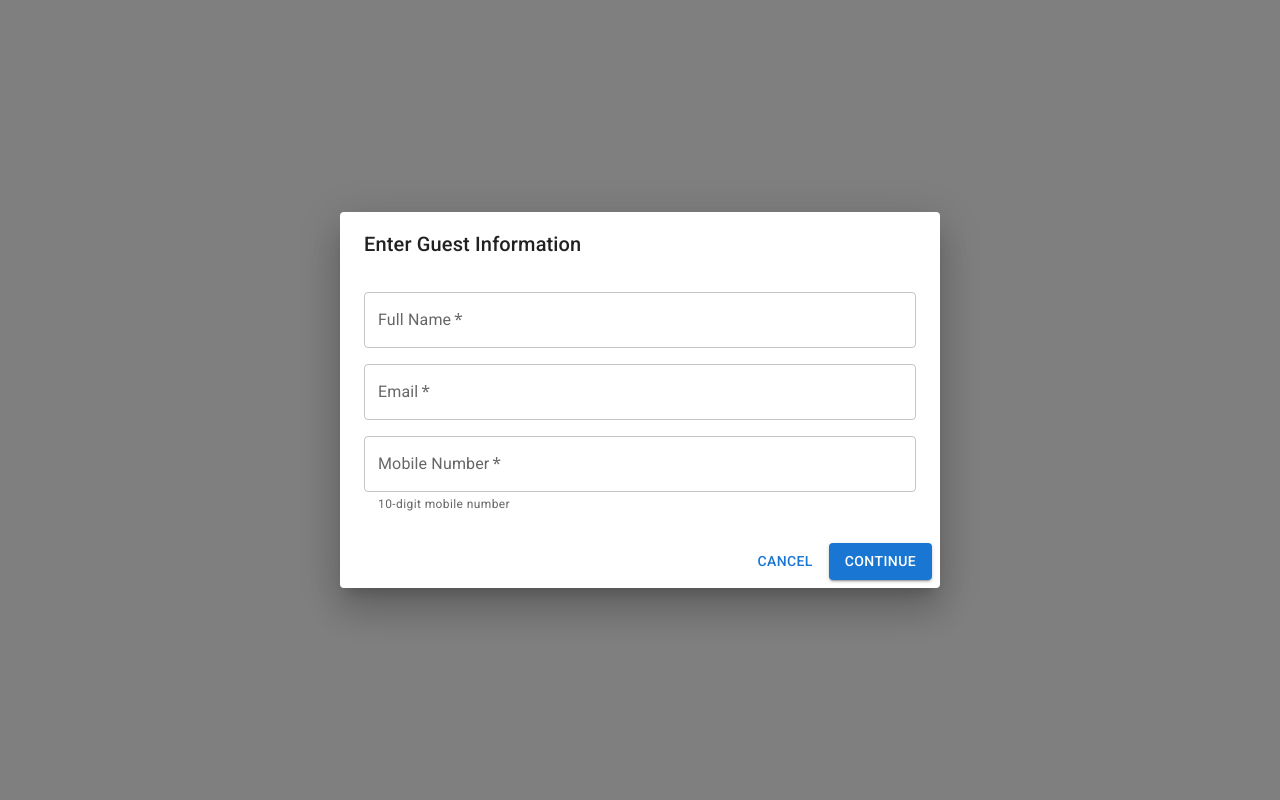
Test: GuestInfoDialog › validates phone number format
Type "John Doe" into the field labelled "Full Name *" at (640,320), box [364,292,916,348]
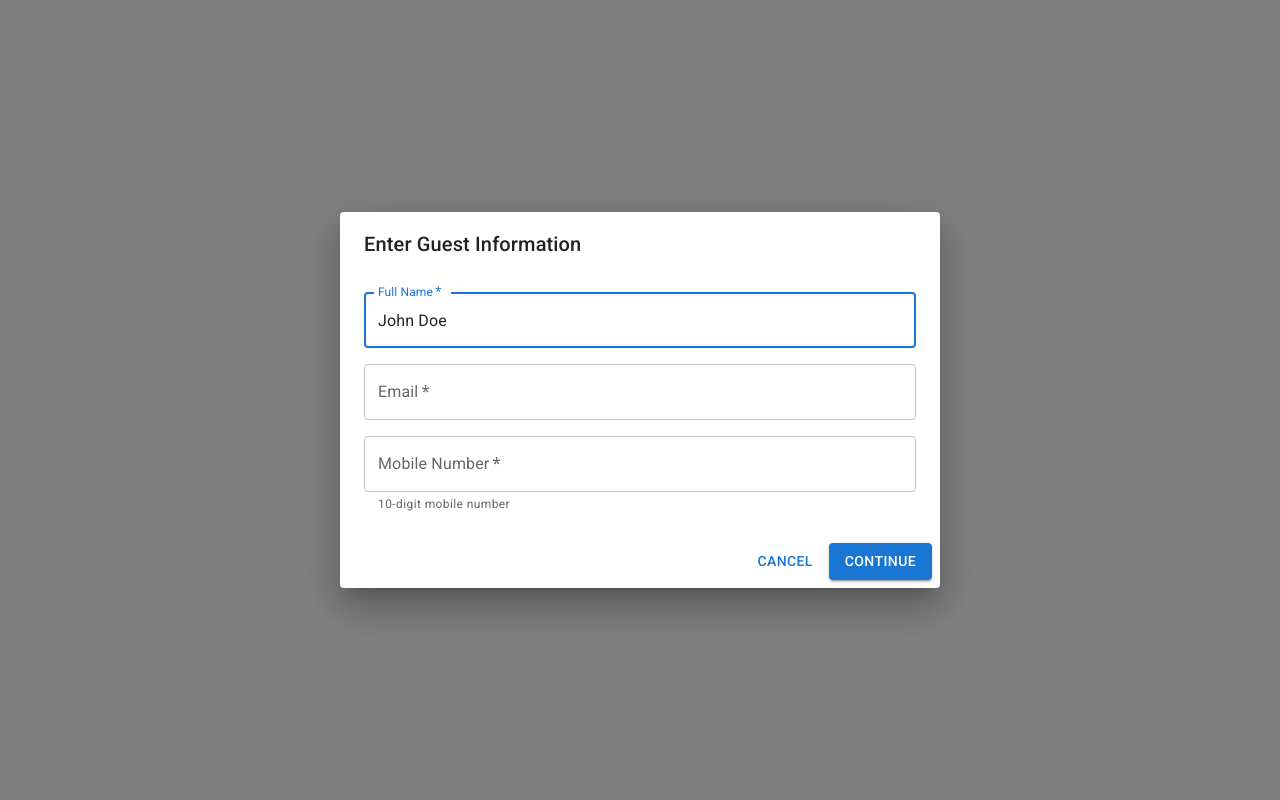
Type "john@example.com" into the field labelled "Email *" at (640,392), box [364,364,916,420]
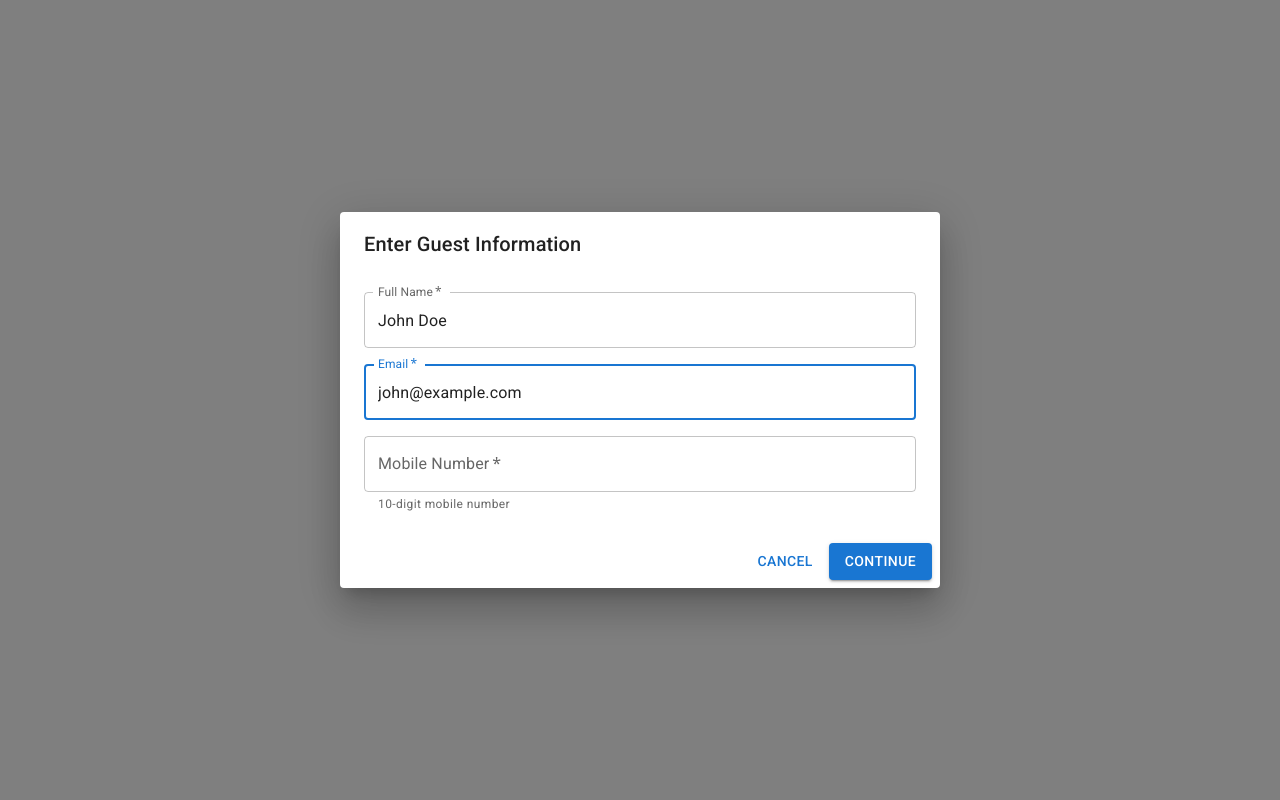
Type "123" into the field labelled "Mobile Number *" at (640,464), box [364,436,916,492]
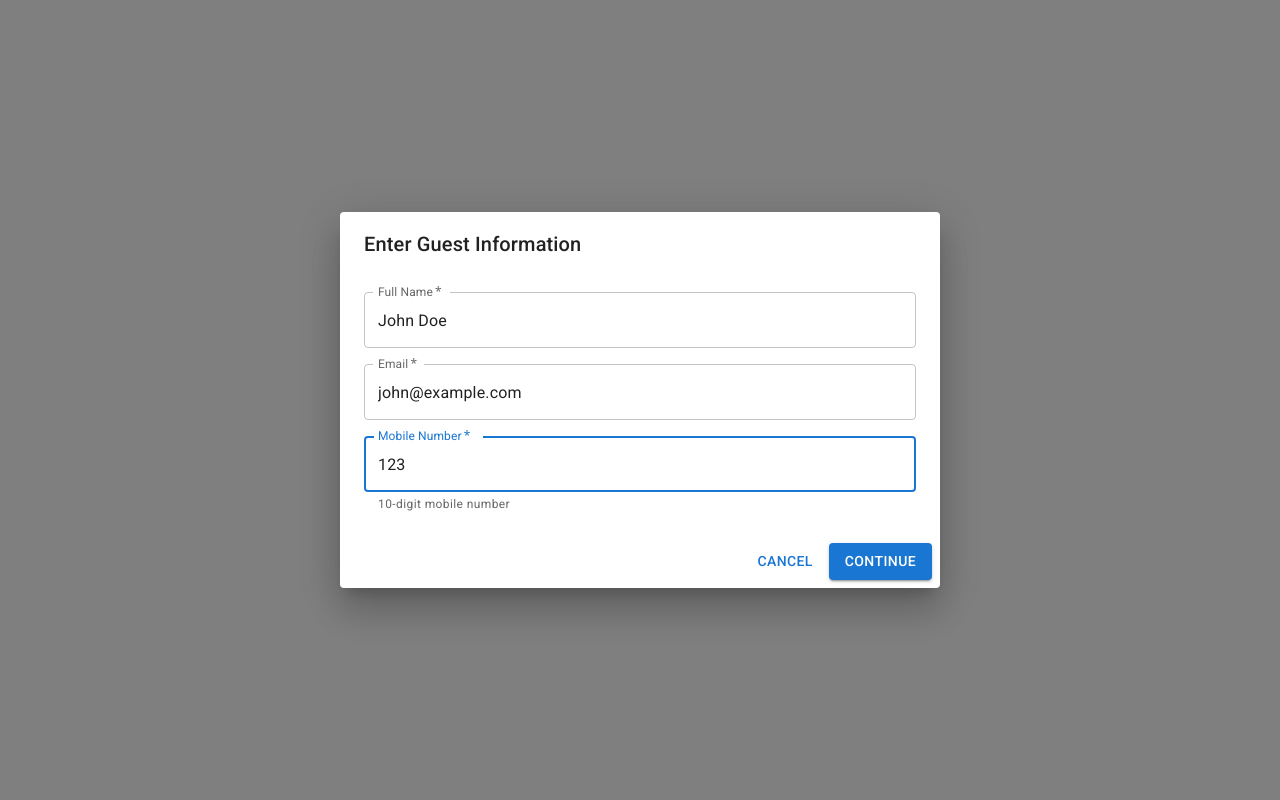
Click the button "Continue" at (880,561), box [829,543,932,580]
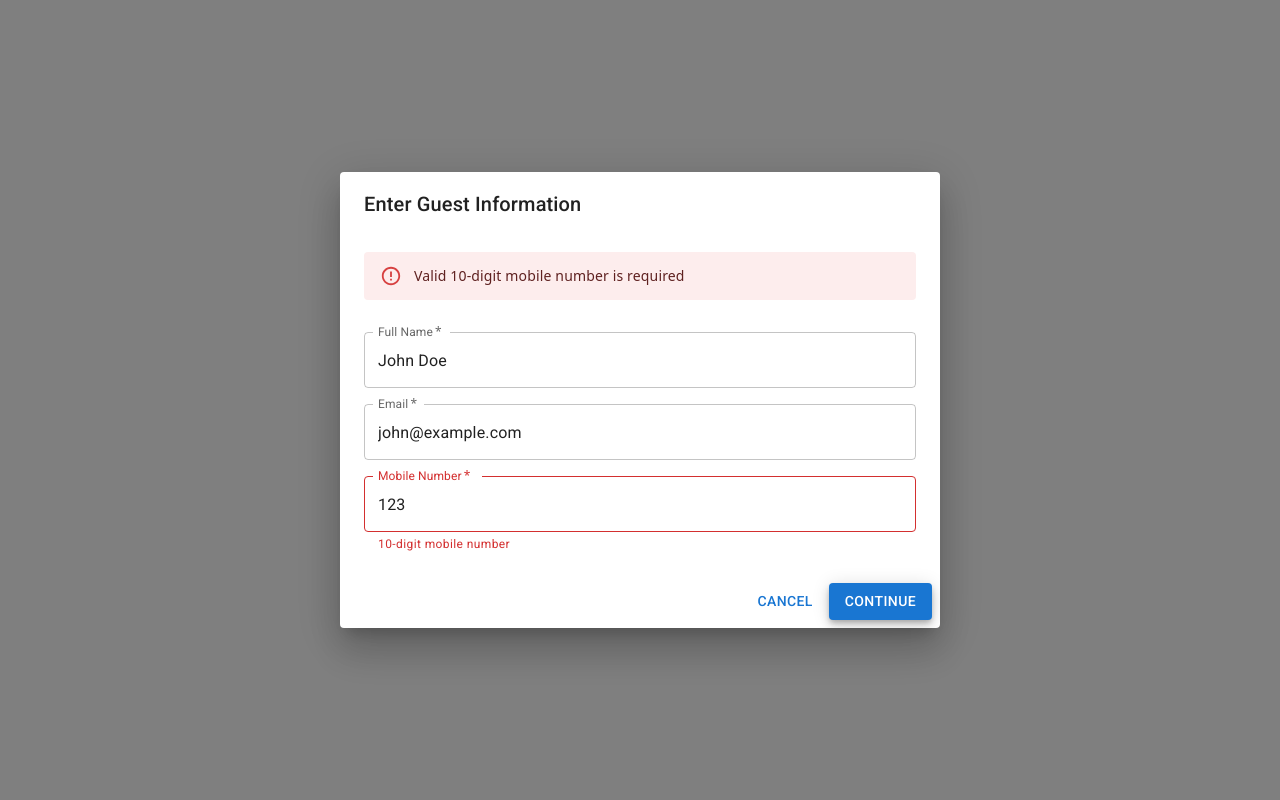
Check: the text "Valid 10-digit mobile number is required" is shown, box [414,266,685,285]
